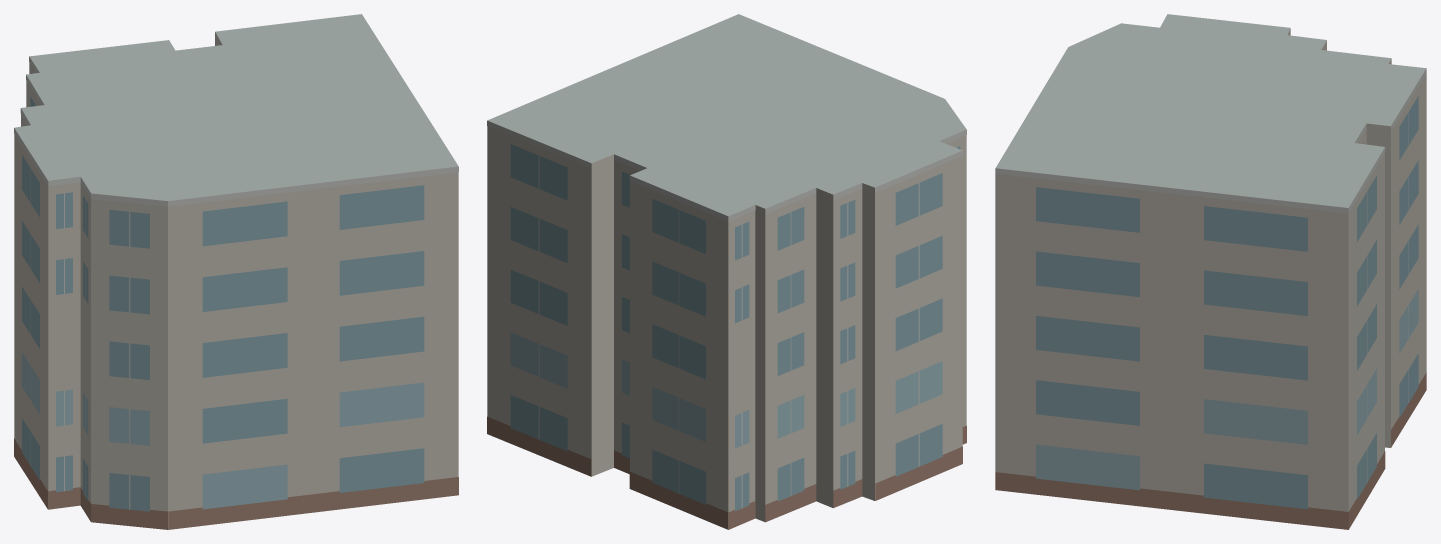
The model's file is survey-upis-32826580.glb.
3 renders of one model, left to right at view 1: azimuth 30°, elevation 25°; view 2: azimuth 150°, elevation 25°; view 3: azimuth 270°, elevation 25°, orthographic. The views are drawn at different scales.
Visible parts, largest first — view 1: survey-upis-32826580.tmp; view 2: survey-upis-32826580.tmp; view 3: survey-upis-32826580.tmp.
Boxes of the visible parts, x1=… form: survey-upis-32826580.tmp: x1=14, y1=14, x2=458, y2=529; survey-upis-32826580.tmp: x1=487, y1=14, x2=966, y2=529; survey-upis-32826580.tmp: x1=995, y1=14, x2=1426, y2=529.
Bounding box in the file's own units: 18.37 × 14.2 × 17.25.
